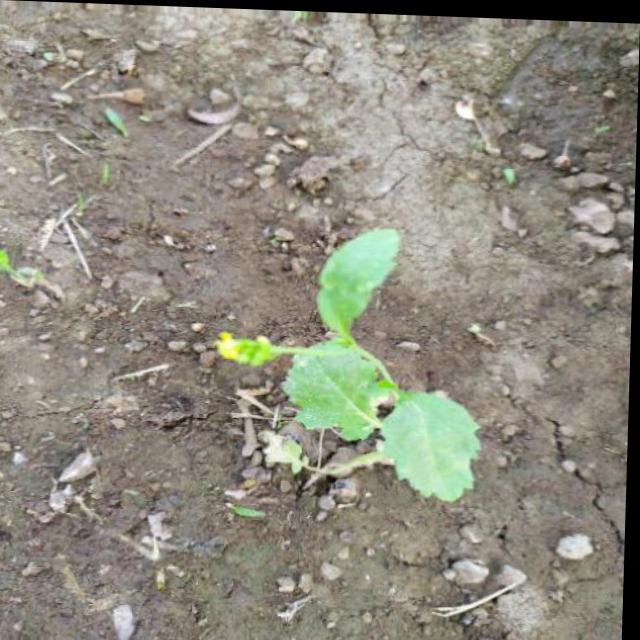weed: (208, 215, 507, 527)
